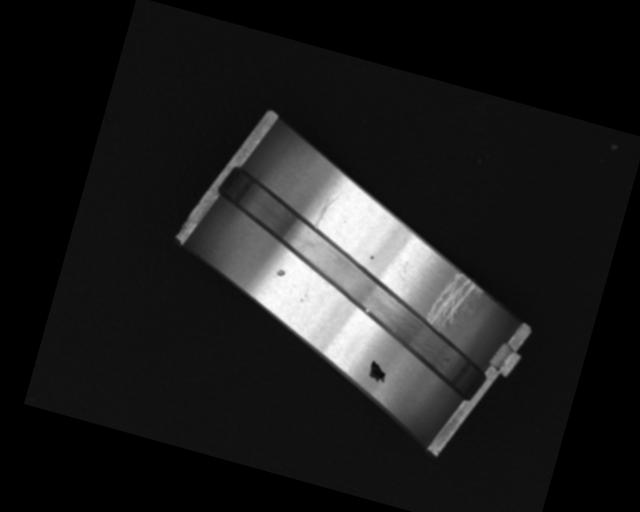blot: (365, 359, 391, 384)
bruise: (275, 267, 286, 277), (369, 255, 375, 261)
gap: (180, 162, 520, 402)
nick: (313, 189, 341, 232)
scratch: (425, 267, 486, 337)
